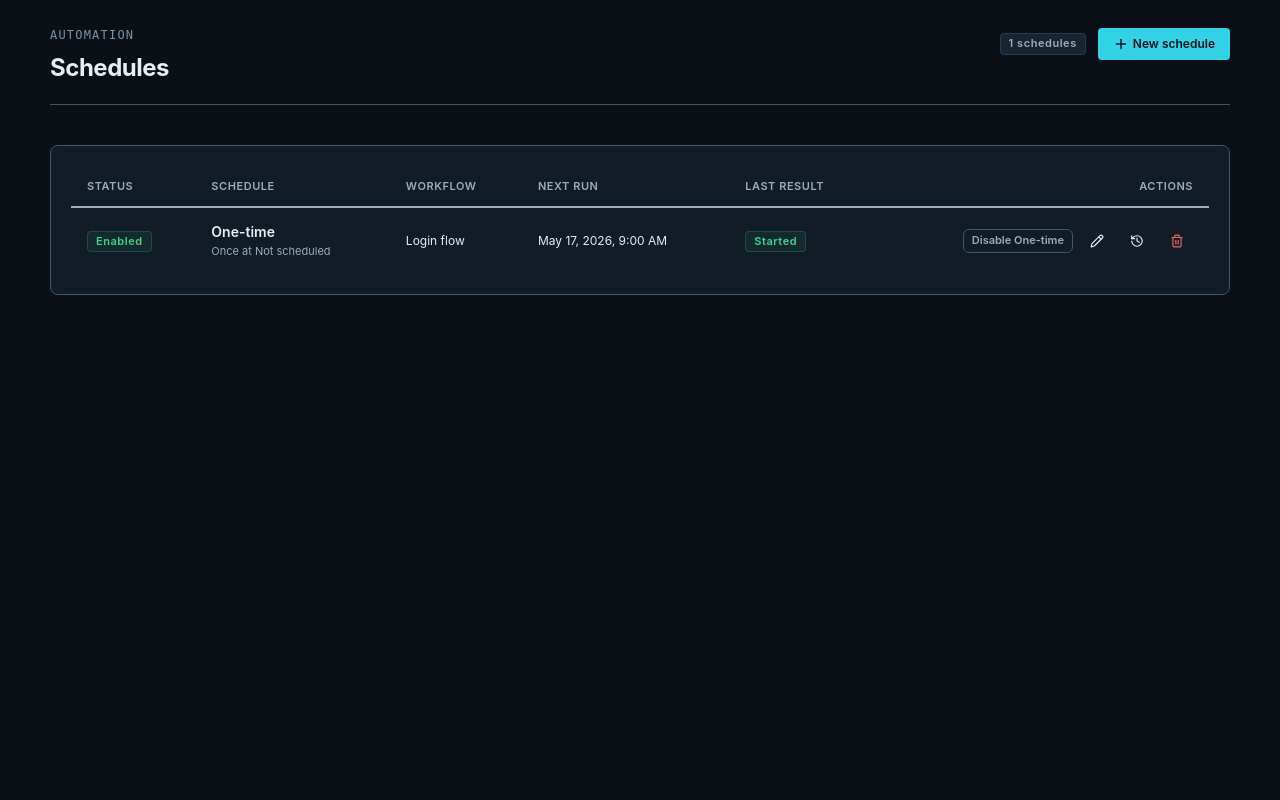
Test: SchedulesPage › keeps one-time edit errors inside the dialog when the datetime is invalid
Click the button named "Edit One-time" at (1097, 241), box [1081,225,1113,257]
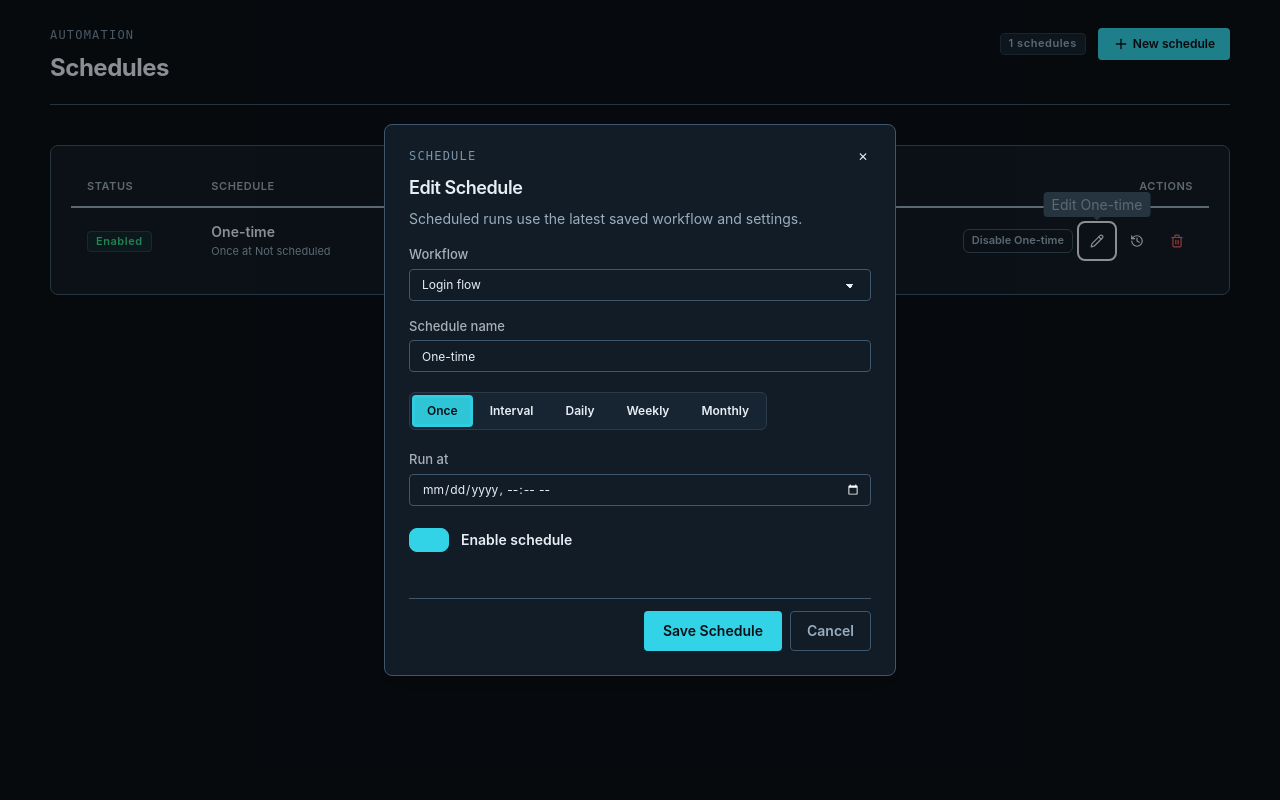
Replace the text in the field labelled "Schedule name" with "Renamed one-time" at (640, 356), box [409,340,871,372]
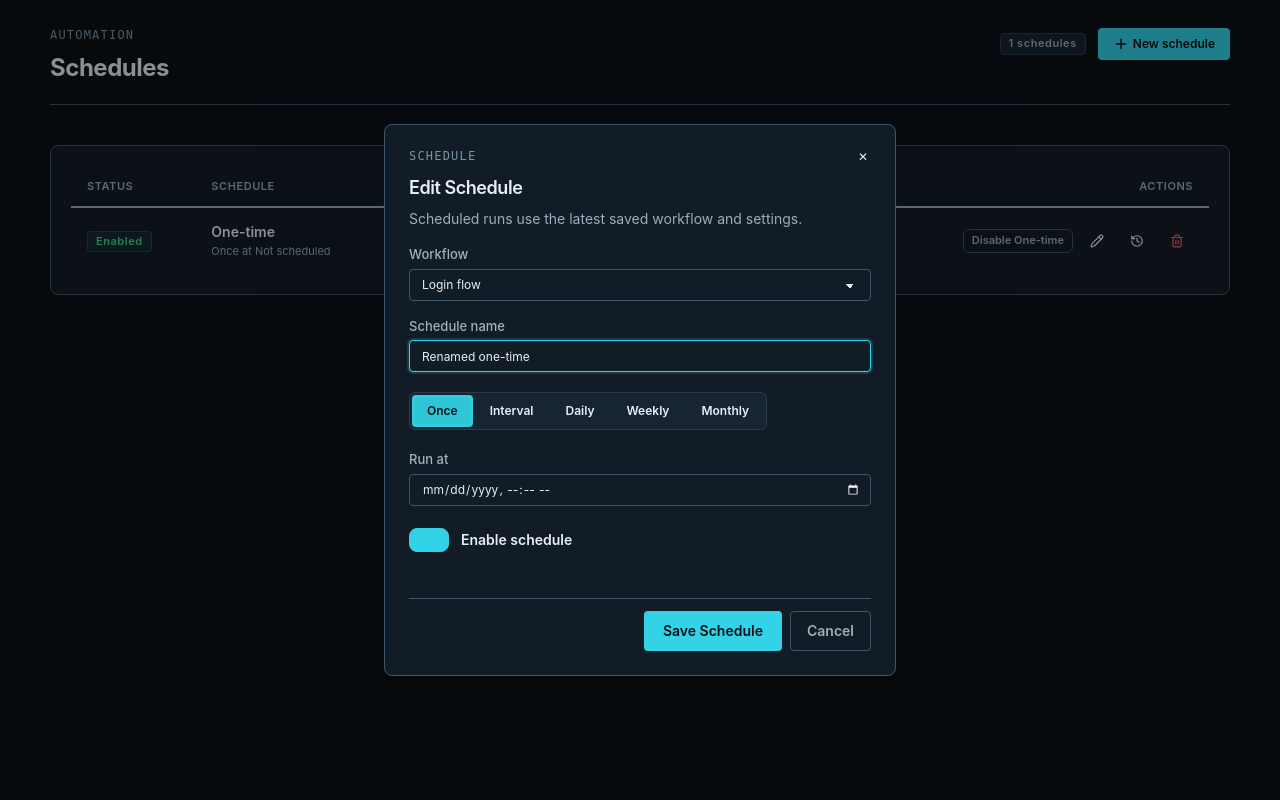
Click the button "Save Schedule" at (713, 631), box [644,611,782,651]
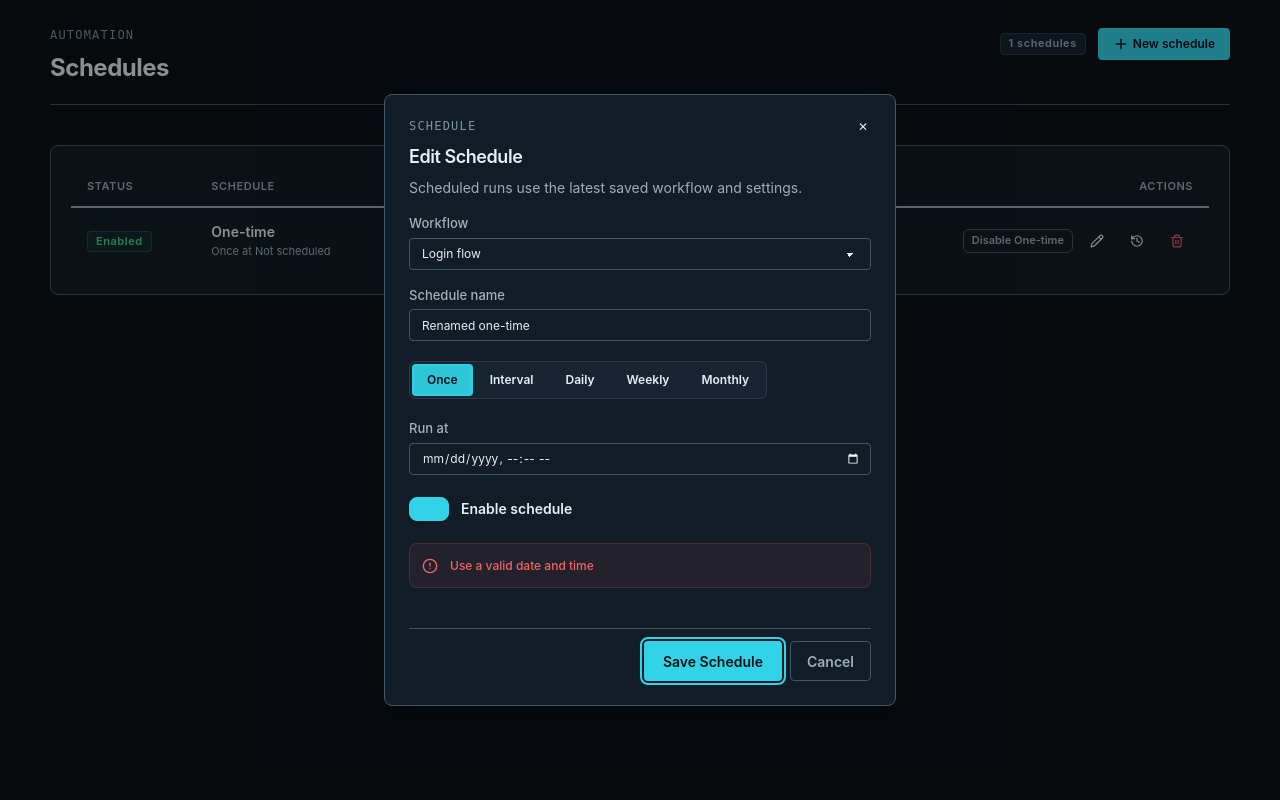
Result: the text "Use a valid date and time" is shown at [450,558,594,573]
